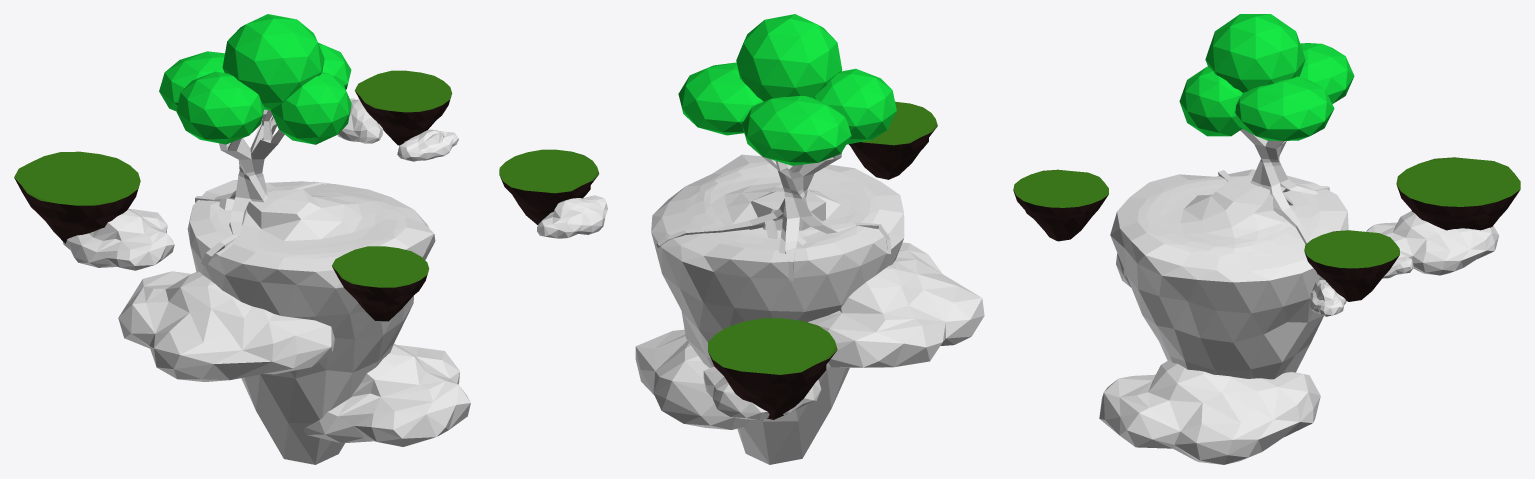
The model's file is AirArena4.fbx.
The picture shows the model from 3 angles, left to right: view 1: azimuth 30°, elevation 25°; view 2: azimuth 150°, elevation 25°; view 3: azimuth 270°, elevation 25°; orthographic projection. The views are drawn at different scales.
Visible parts, largest first — view 1: Icosphere, Icosphere.005, Cloud.004, Cloud.003, Icosphere.003, Icosphere.002, Icosphere.001, Cloud.002, Tree, Cloud, Cloud.001; view 2: Icosphere, Icosphere.005, Cloud.004, Icosphere.003, Cloud.003, Icosphere.001, Tree, Icosphere.002, Cloud.001, Cloud.002; view 3: Icosphere, Cloud.003, Icosphere.005, Icosphere.003, Icosphere.002, Icosphere.001, Cloud.002, Tree, Cloud.
Boxes of the visible parts, x1,y1,x2,y2 form: Icosphere: (187,180,435,464); Icosphere.005: (159,14,351,144); Cloud.004: (118,271,334,381); Cloud.003: (303,344,470,446); Icosphere.003: (14,151,140,243); Icosphere.002: (332,246,429,321); Icosphere.001: (354,70,452,145); Cloud.002: (63,208,174,270); Tree: (195,109,329,266); Cloud: (397,129,458,161); Cloud.001: (337,98,382,143); Icosphere: (651,154,904,464); Icosphere.005: (678,14,896,165); Cloud.004: (808,242,984,367); Icosphere.003: (708,318,837,419); Cloud.003: (635,329,750,429); Icosphere.001: (499,149,599,224); Tree: (656,148,890,281); Icosphere.002: (849,101,937,179); Cloud.001: (537,195,607,238); Cloud.002: (703,366,821,420); Icosphere: (1110,169,1348,379); Cloud.003: (1099,360,1320,464); Icosphere.005: (1179,14,1354,140); Icosphere.003: (1396,157,1520,230); Icosphere.002: (1013,169,1108,241); Icosphere.001: (1304,230,1399,301); Cloud.002: (1366,211,1498,275); Tree: (1218,129,1329,244); Cloud: (1310,280,1346,316).
Bounding box in the file's own units: 1497 × 1688 × 1859.
